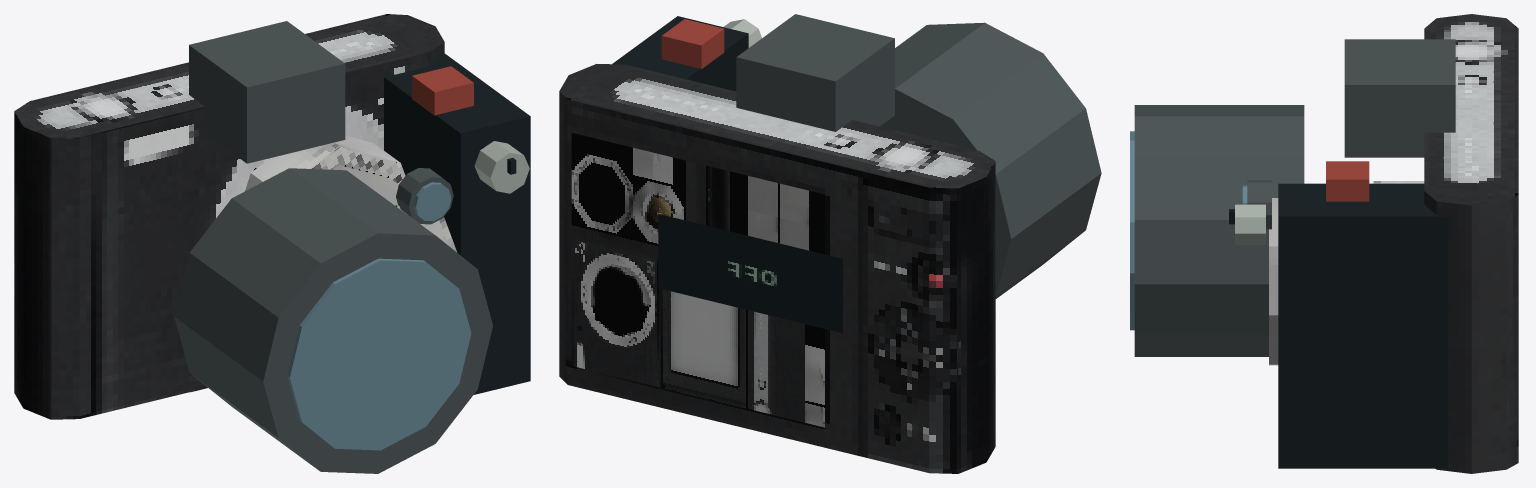
Rendered from blender_photo_camera_3.glb.
3 renders of one model, left to right at view 1: azimuth 30°, elevation 25°; view 2: azimuth 150°, elevation 25°; view 3: azimuth 270°, elevation 25°, orthographic. The views are drawn at different scales.
Parts seen in each view (by area): view 1: blender_photo_camera_3; view 2: blender_photo_camera_3; view 3: blender_photo_camera_3.
Boxes of the visible parts, bbox=[...] form: blender_photo_camera_3: bbox=[14, 14, 530, 473]; blender_photo_camera_3: bbox=[559, 14, 1101, 473]; blender_photo_camera_3: bbox=[1130, 14, 1518, 473].
Bounding box in the file's own units: 0.147 × 0.1175 × 0.127.
1 material, 1 textured.
